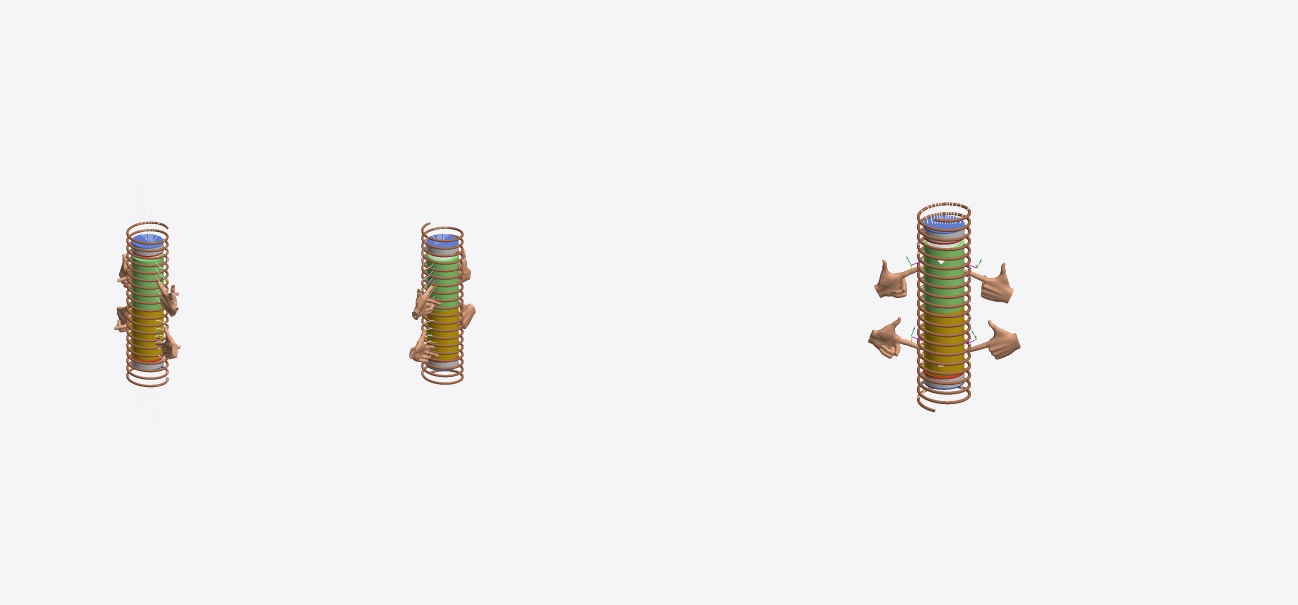
The model's file is 8battery_magnetic_field.glb.
3 views of the same model, side by side, from view 1: azimuth 30°, elevation 25°; view 2: azimuth 150°, elevation 25°; view 3: azimuth 270°, elevation 25° (orthographic). The views are drawn at different scales.
Visible parts, largest first — view 1: pole, zwojnica, bateria, magnes bieguny.001, hand1.001, hand1; view 2: pole, zwojnica, bateria, magnes bieguny.001, hand1.002, hand1.003; view 3: pole, zwojnica, bateria, magnes bieguny.001, hand1, hand1.002, hand1.003, hand1.001.
Boxes of the visible parts, left/top/right/bottom form: pole: left=14, top=14, right=280, bottom=590; zwojnica: left=126, top=221, right=168, bottom=387; bateria: left=131, top=253, right=163, bottom=360; magnes bieguny.001: left=131, top=234, right=163, bottom=369; hand1.001: left=156, top=281, right=178, bottom=316; hand1: left=155, top=326, right=180, bottom=359; pole: left=309, top=14, right=575, bottom=590; zwojnica: left=421, top=222, right=463, bottom=384; bateria: left=426, top=253, right=458, bottom=359; magnes bieguny.001: left=426, top=234, right=458, bottom=370; hand1.002: left=412, top=283, right=440, bottom=319; hand1.003: left=409, top=329, right=438, bottom=363; pole: left=604, top=14, right=1283, bottom=590; zwojnica: left=917, top=202, right=970, bottom=412; bateria: left=923, top=239, right=964, bottom=376; magnes bieguny.001: left=923, top=215, right=964, bottom=389; hand1: left=868, top=317, right=921, bottom=358; hand1.002: left=964, top=262, right=1013, bottom=303; hand1.003: left=967, top=320, right=1020, bottom=359; hand1.001: left=874, top=259, right=923, bottom=297.
Bounding box in the file's own units: 0.9306 × 10.9 × 11.63.
